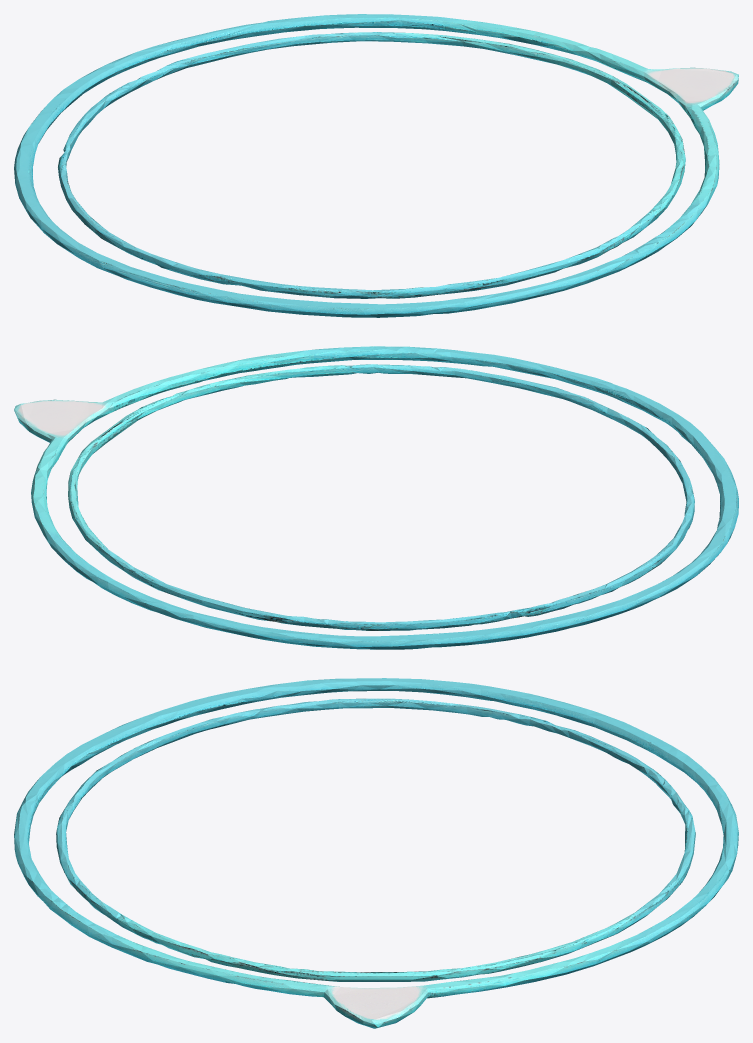
File: COMMON_사물_ui_tutorial_speech_bubble.glb
3 views of the same model, one above another, from view 1: azimuth 30°, elevation 25°; view 2: azimuth 150°, elevation 25°; view 3: azimuth 270°, elevation 25° (orthographic). The views are drawn at different scales.
Visible parts, largest first — view 1: world; view 2: world; view 3: world.
Boxes of the visible parts, bbox=[...] form: world: bbox=[14, 14, 738, 317]; world: bbox=[14, 346, 738, 649]; world: bbox=[14, 678, 738, 1028].
Bounding box in the file's own units: 0.9949 × 0.0159 × 0.8821.
Materials: 1 (1 with a texture image).
